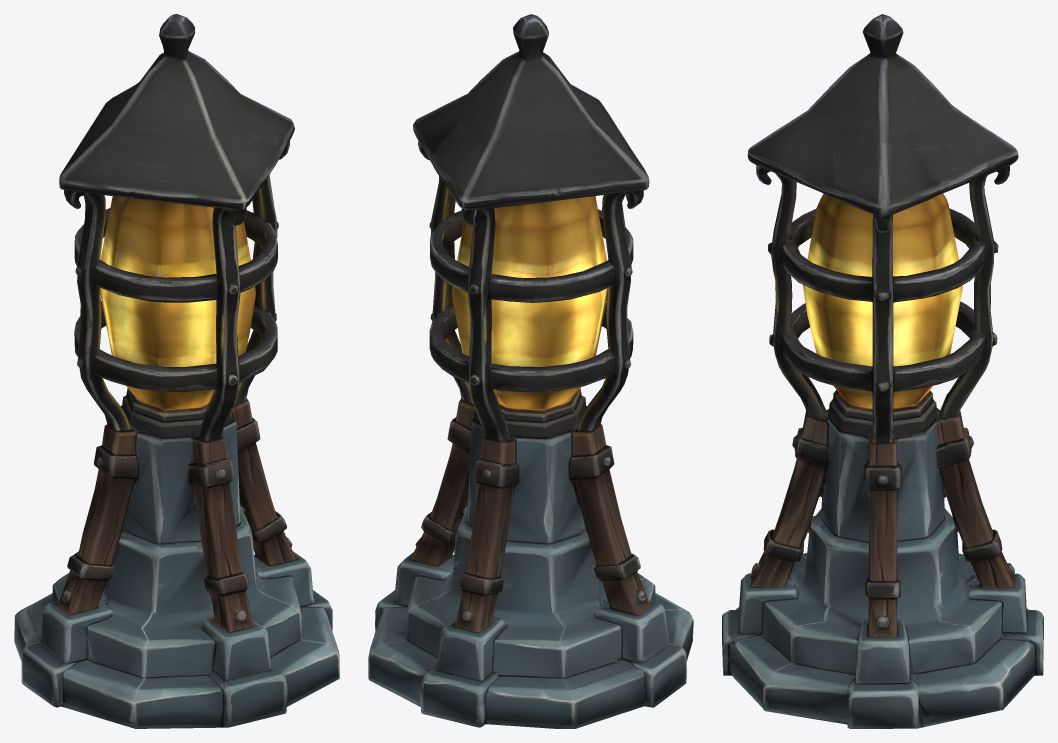
File: mesh_first_lantern_a.glb
3 views of the same model, side by side, from view 1: azimuth 30°, elevation 25°; view 2: azimuth 150°, elevation 25°; view 3: azimuth 270°, elevation 25° (orthographic).
Parts seen in each view (by area): view 1: mesh_first_lantern_a__Mesh_0; view 2: mesh_first_lantern_a__Mesh_0; view 3: mesh_first_lantern_a__Mesh_0.
Part boxes in pixels (x1,y1,x2,y2): mesh_first_lantern_a__Mesh_0: [14, 14, 339, 728]; mesh_first_lantern_a__Mesh_0: [368, 14, 693, 728]; mesh_first_lantern_a__Mesh_0: [722, 14, 1043, 728].
Bounding box in the file's own units: 4.96 × 11 × 4.97.
1 material, 1 textured.
